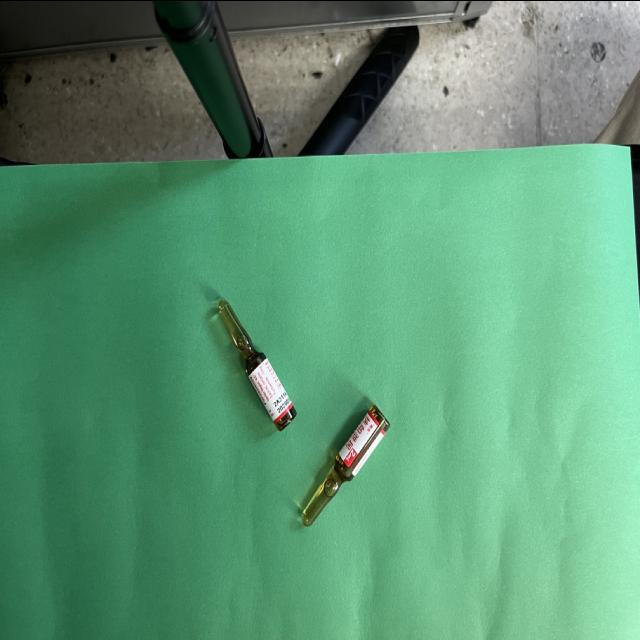Ampoules: (303, 404, 390, 525), (218, 299, 296, 429)
